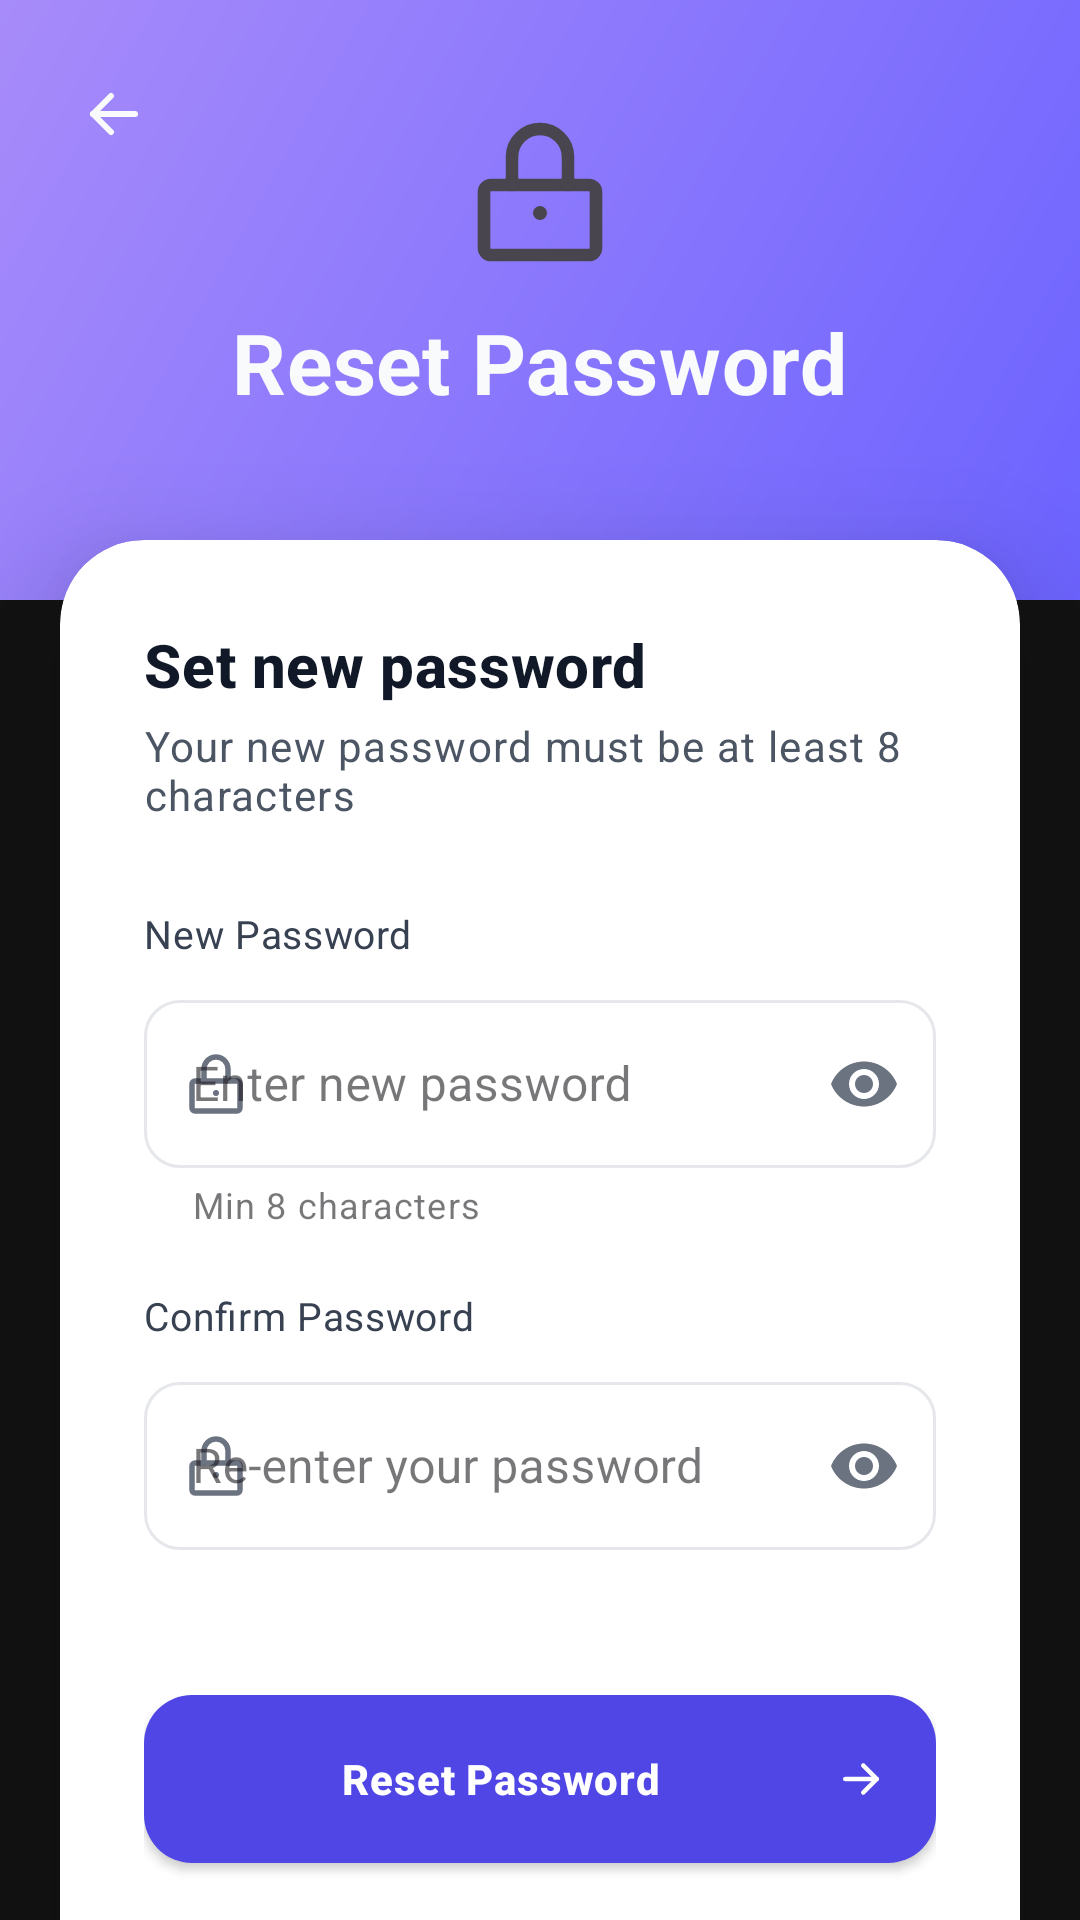

Named icons in this screenshot (1080×1920) and their bounding boxes, BBox(x1, y1, x2, y2):
Back: BBox(90, 93, 138, 135)
